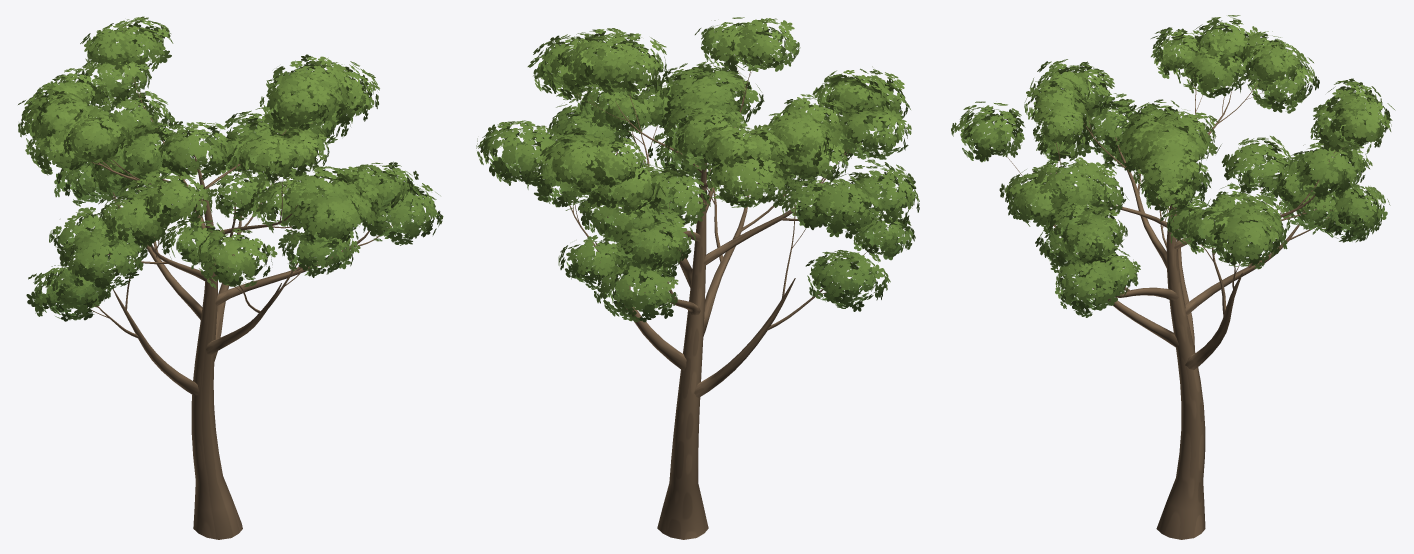
File: tree.gltf
The picture shows the model from 3 angles, left to right: view 1: azimuth 30°, elevation 25°; view 2: azimuth 150°, elevation 25°; view 3: azimuth 270°, elevation 25°; orthographic projection. The views are drawn at different scales.
Parts seen in each view (by area): view 1: Tree_LOD0; view 2: Tree_LOD0; view 3: Tree_LOD0.
Part boxes in pixels (<box>): Tree_LOD0: <box>18,16,443,539</box>; Tree_LOD0: <box>476,17,919,539</box>; Tree_LOD0: <box>951,15,1395,539</box>.
Bounding box in the file's own units: 18.28 × 21.3 × 19.4.
2 materials, 2 textured.
